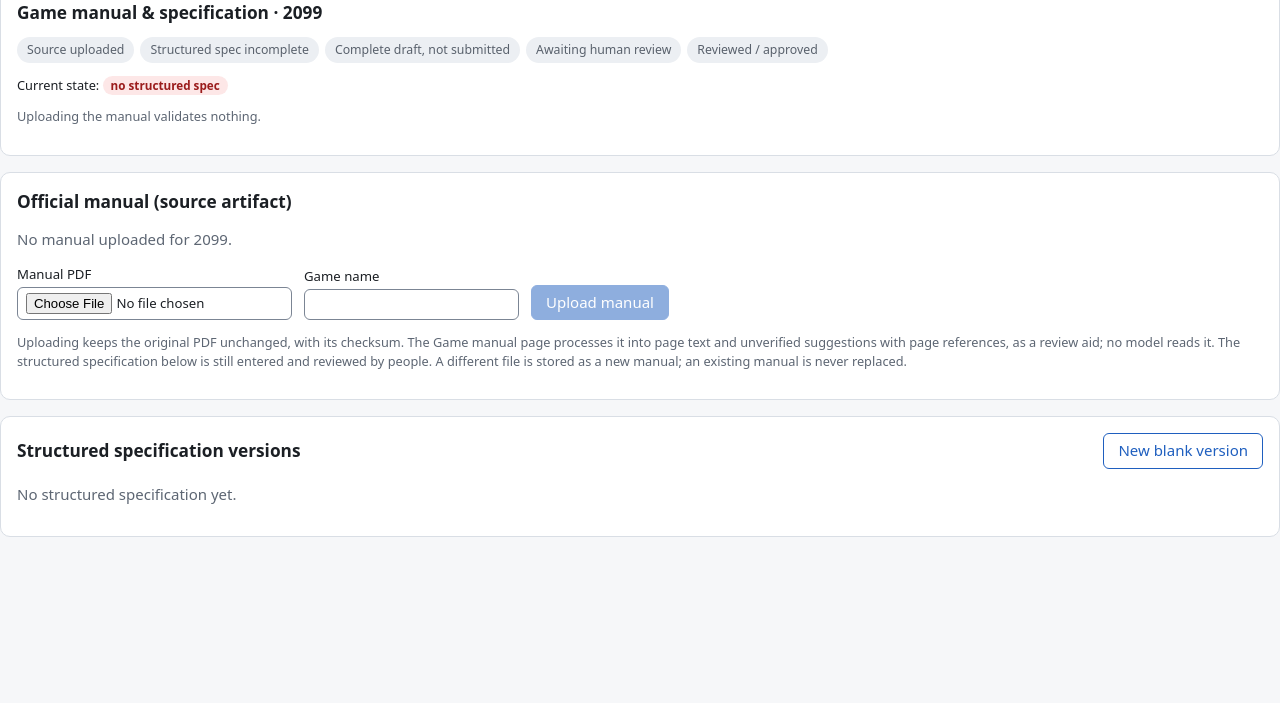
it: Game manual and spec workflow › saves a blank-started draft as a new version without inventing any rules
Click the button "New blank version".
click(1183, 451)  # box [1103,433,1263,469]
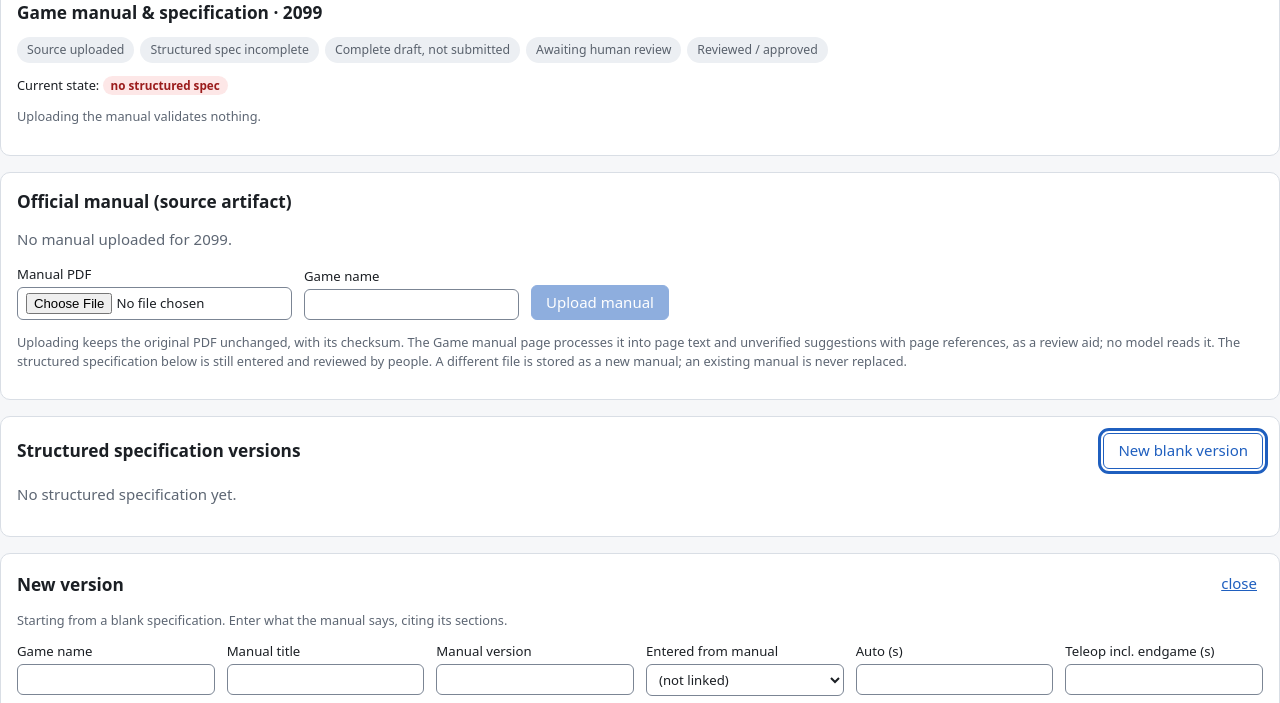
Type "Synthetic" into the field named "Spec game name".
click(116, 680); type("Synthetic")  # box [17,664,215,695]
(page scrolled)
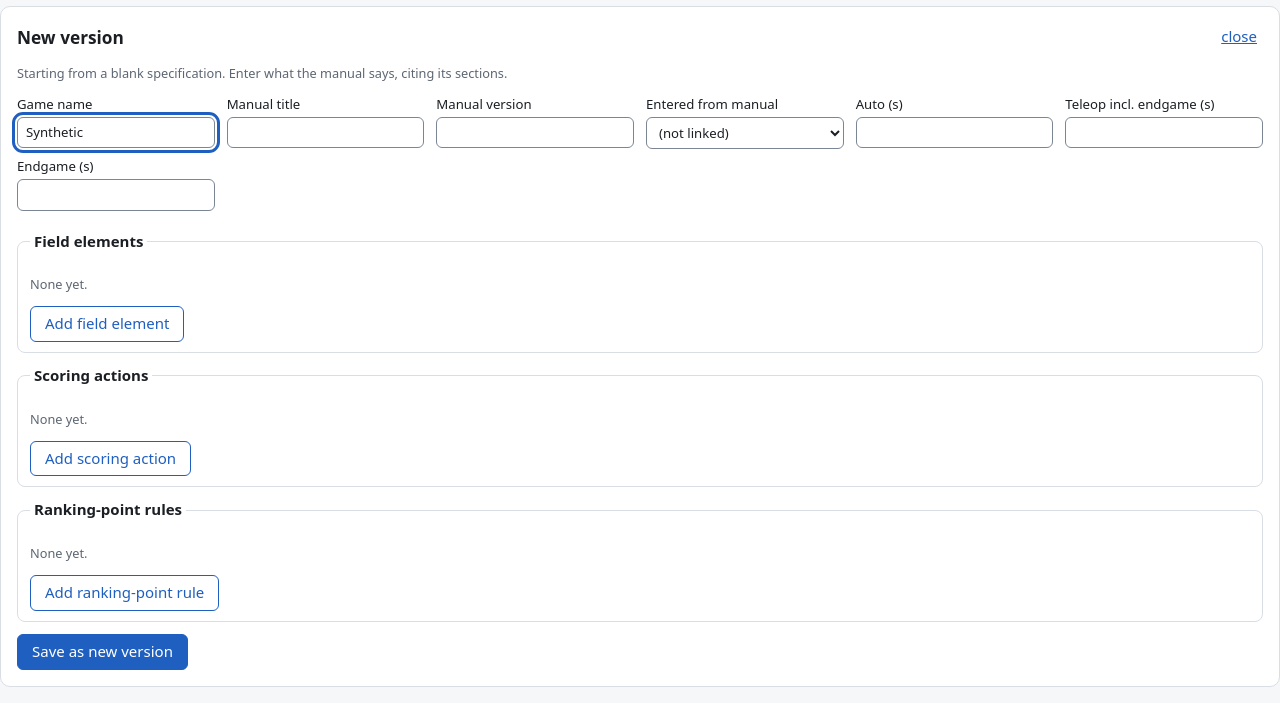
Click the button "Save as new version".
click(102, 652)  # box [17,634,188,670]
(page scrolled)
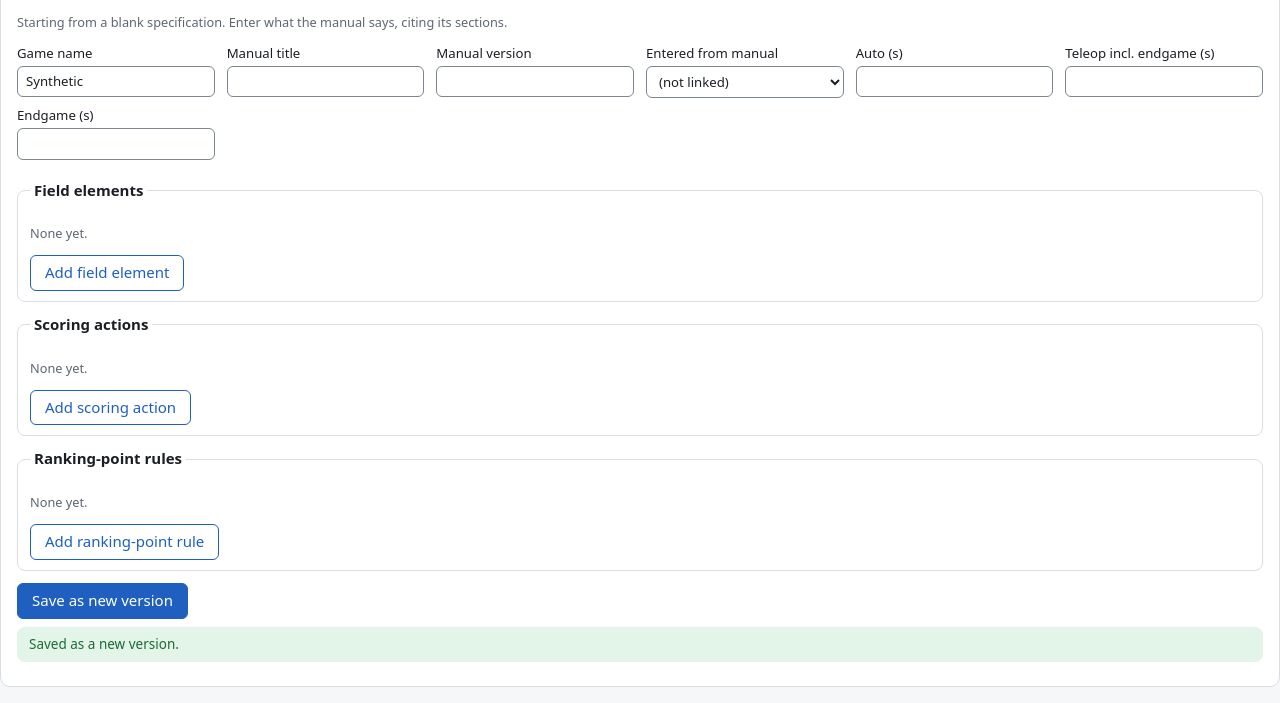
Now the text "Saved as a new version." is shown, box [17,627,1263,662]
